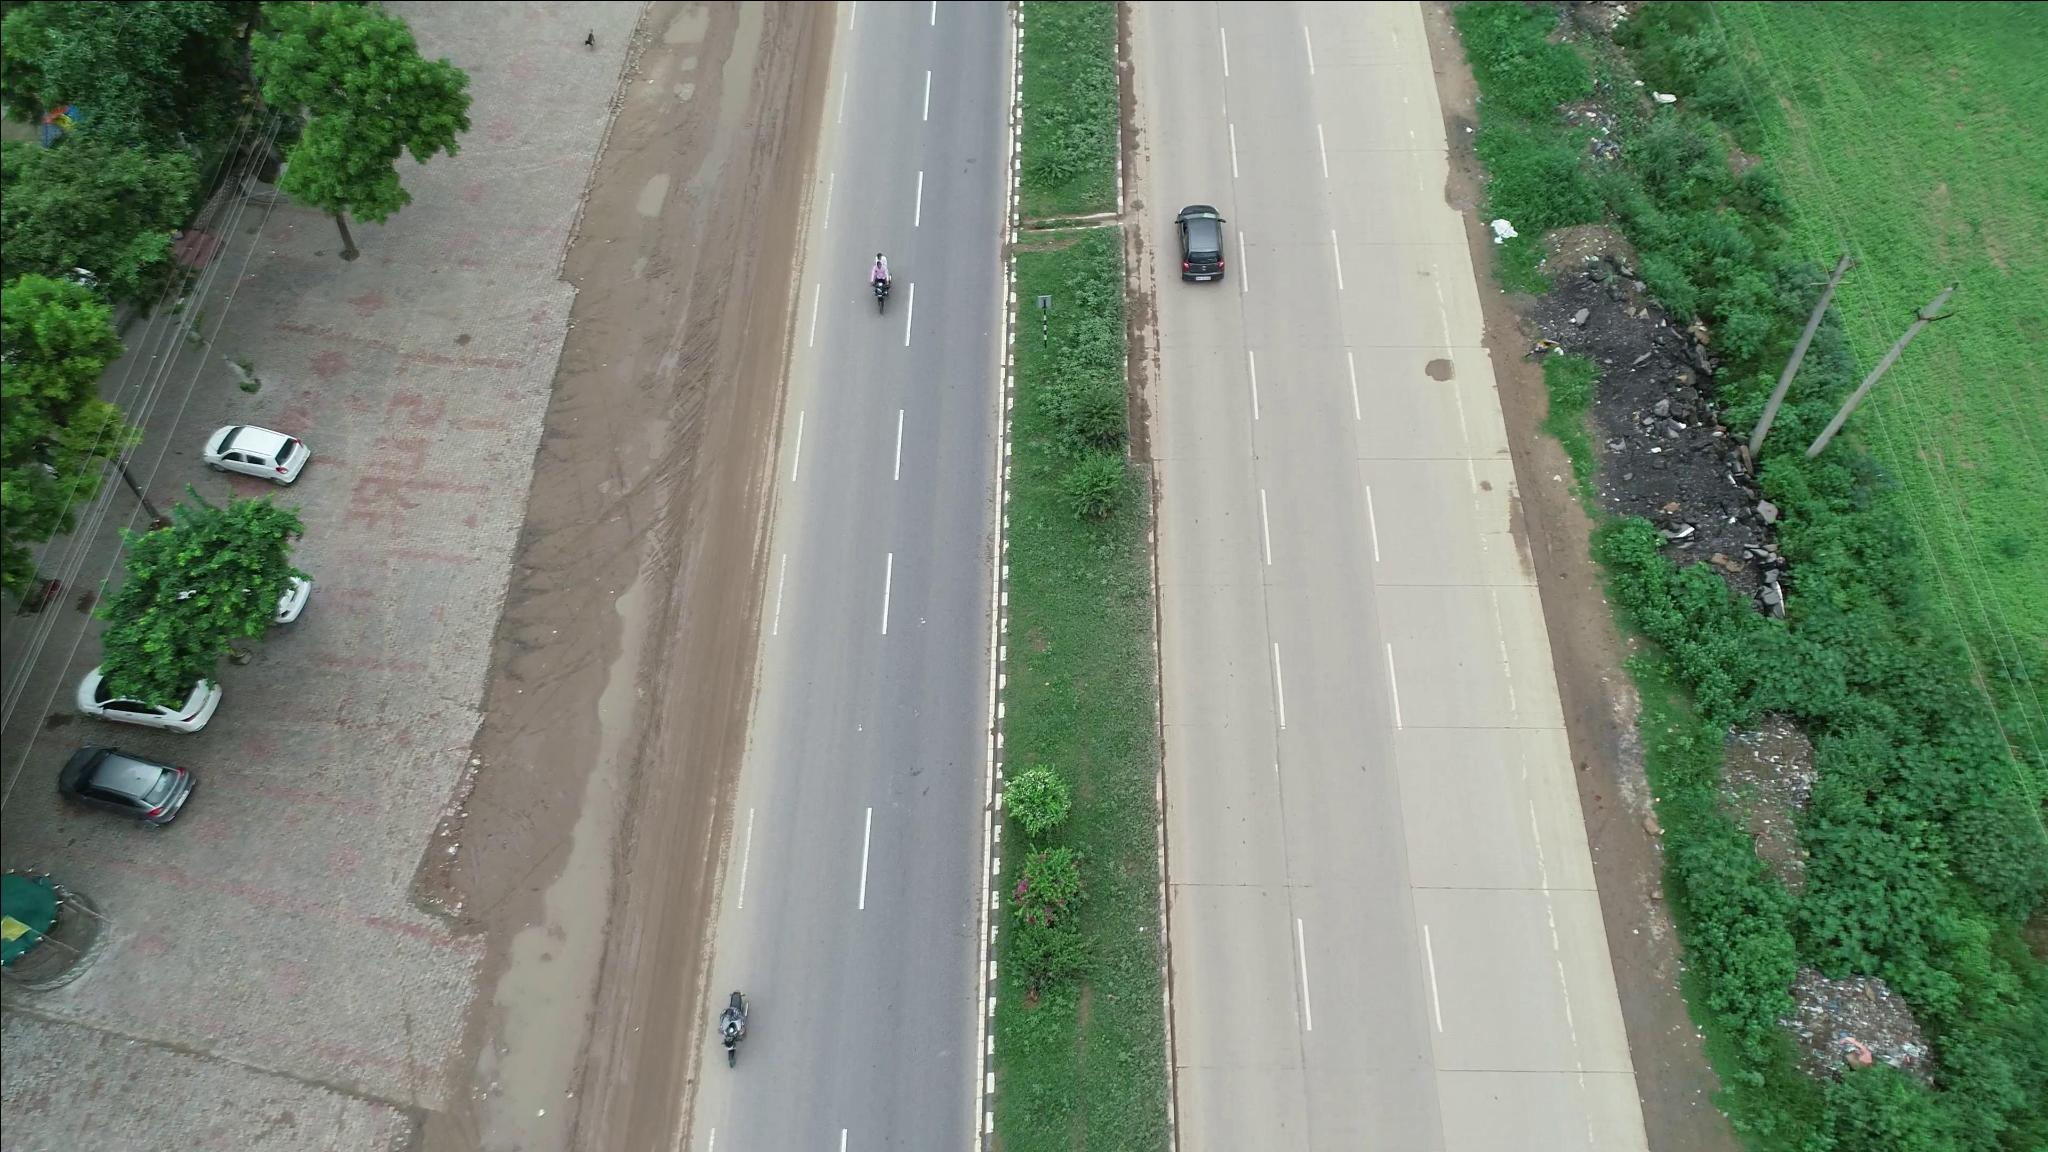Muddy_road: (695, 143, 834, 550), (629, 585, 767, 994)
